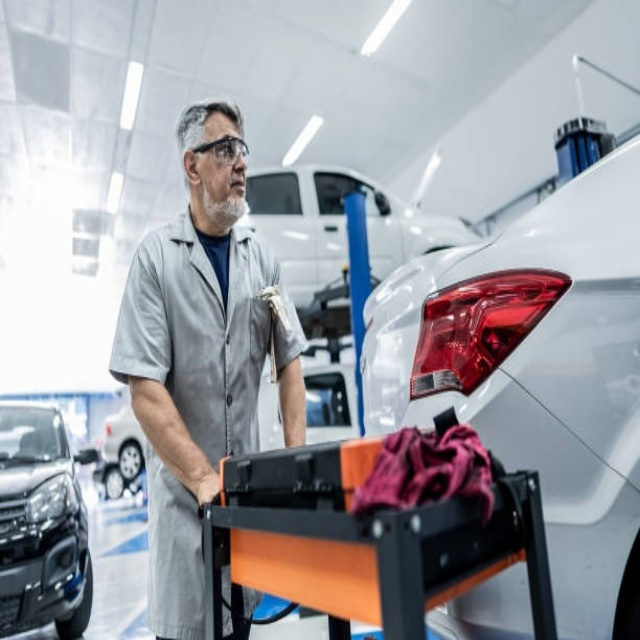Gafas: (192, 136, 251, 166)
Sin_mascara: (223, 172, 247, 210)
